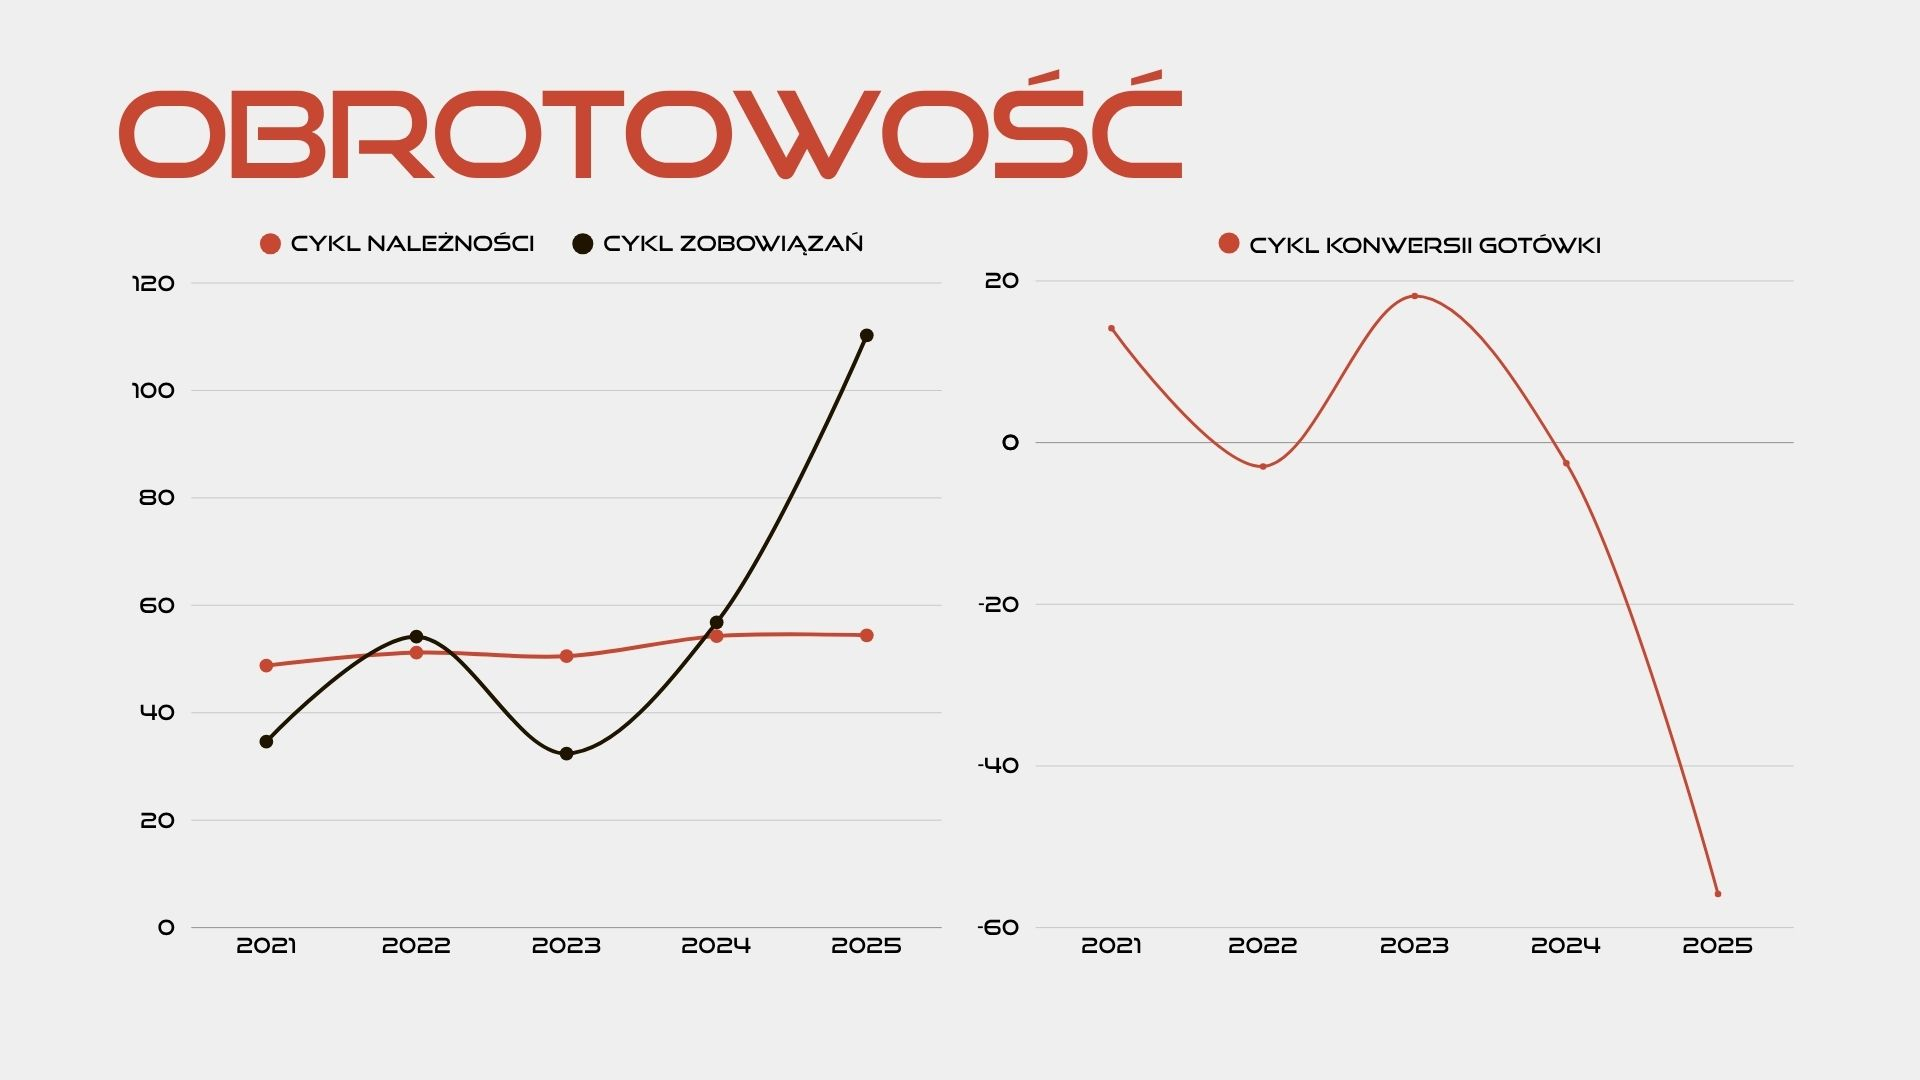

This screenshot's page, from the dashboard's own definition file:
{"tool":"powerbi","page":{"name":"EFFICIENCY","canvas":[1280,720],"ordinal":3},"visuals":[{"type":"pageNavigator","box":[0,0,800,50],"z":0},{"type":"areaChart","fields":{"Category":["balance_sheet.Date.Variation.Date Hierarchy.Year","balance_sheet.Date.Variation.Date Hierarchy.Quarter","balance_sheet.Date.Variation.Date Hierarchy.Month","balance_sheet.Date.Variation.Date Hierarchy.Day"],"Y":["Mesures.PPE Turnover","Mesures.Recieveables Turnover"],"Y2":["Mesures.Asset Turnover","Mesures.Current Assets Turnover"]},"box":[0,88.1,1280.4,632.4],"z":1000}]}

Visuals, with their boxes in screenshot pixels (x1, y1, x2, y2), scaled from the page's 1280x720 canvas onto the 1920x1080 screenshot:
pageNavigator: [x1=0, y1=0, x2=1200, y2=75]
areaChart - balance_sheet.Date.Variation.Date Hierarchy.Year x balance_sheet.Date.Variation.Date Hierarchy.Quarter: [x1=0, y1=132, x2=1919, y2=1079]
